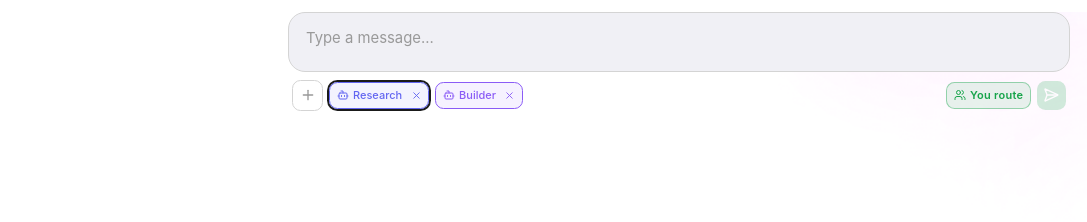
Test case: addressing a human chat › moves the address when Address Next Message is picked from a chip menu
Click the button "Builder" at (469, 95), box [443,87,496,104]
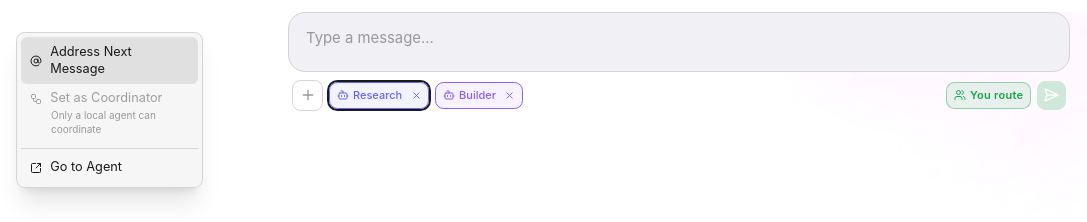
Press Escape
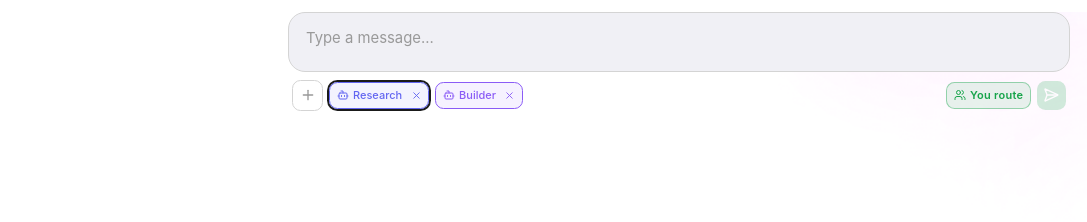
Click the button "Builder" at (469, 95), box [443,87,496,104]
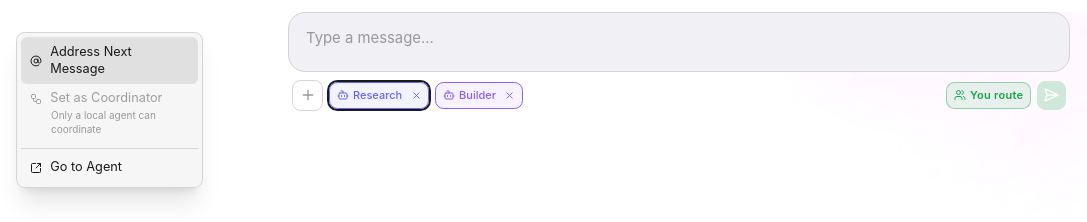
Click the menu item "Address Next Message" at (110, 61), box [21,37,198,84]
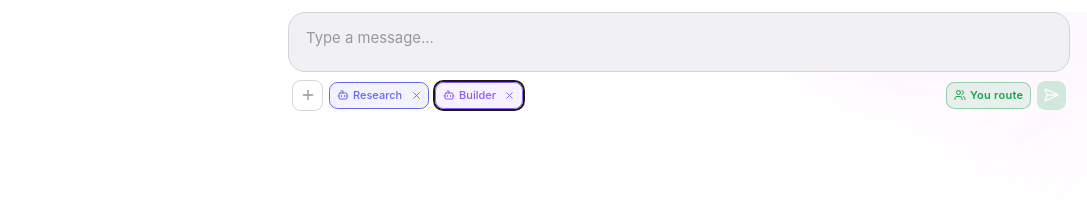
Expected: the menu is gone
